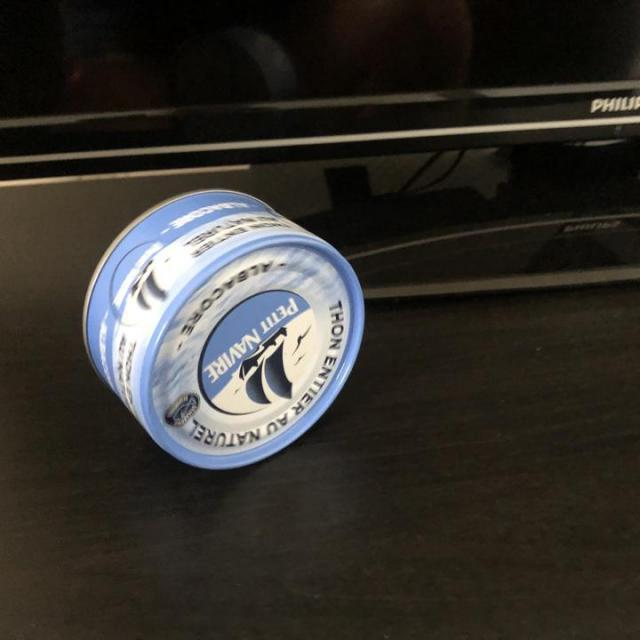recyclable: (79, 184, 368, 477)
